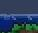liquid: (1, 0, 38, 33)
